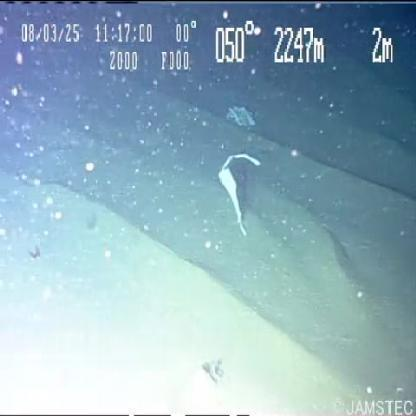Rác: (219, 155, 259, 237)
